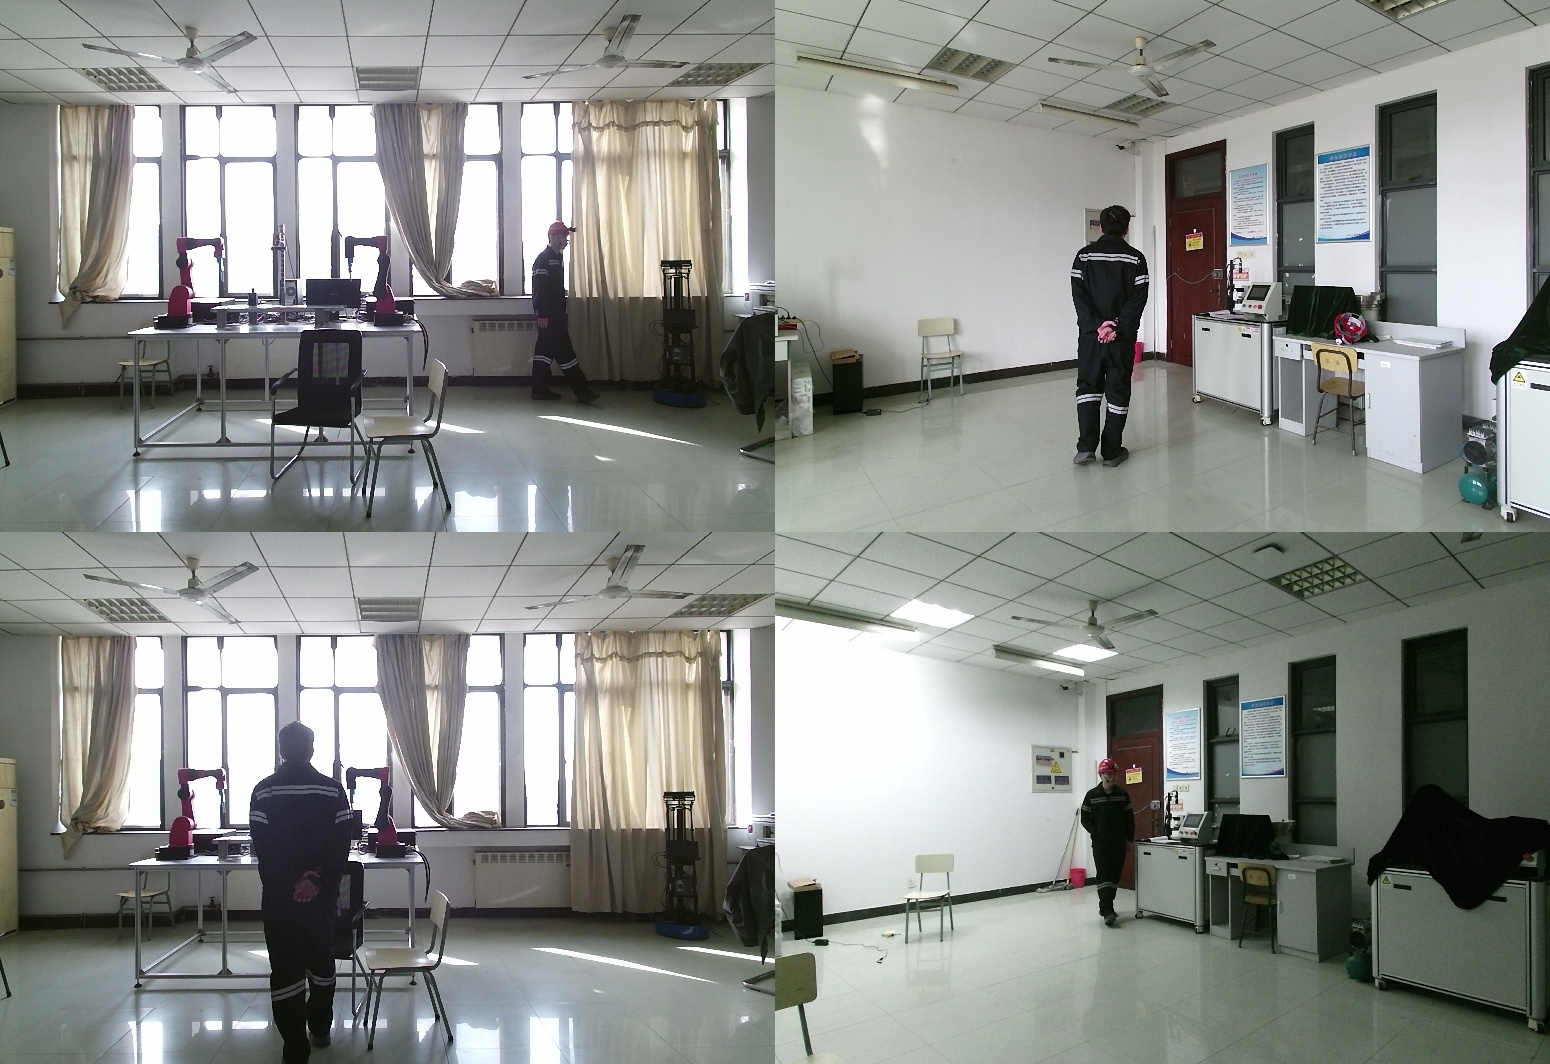person: (246, 724, 355, 1064), (1065, 205, 1155, 473), (534, 224, 602, 412), (1078, 759, 1139, 929)
